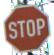Stop sign: (0, 0, 53, 54)
